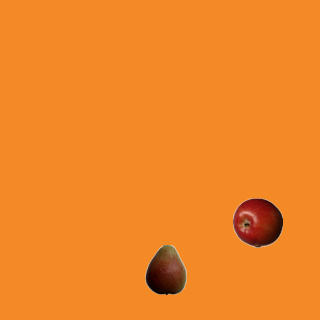Apple Braeburn: (232, 197, 282, 247)
Pear Forelle: (140, 244, 190, 294)
